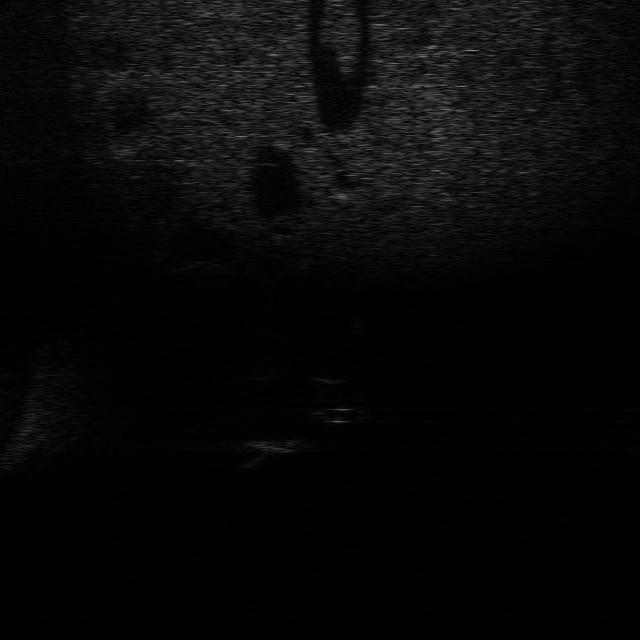ball: (304, 372, 352, 392)
square cage: (232, 435, 318, 469)
tyre: (307, 402, 373, 429)
